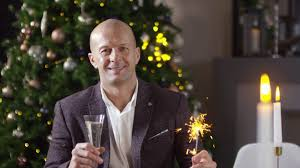white_male: (95, 27, 138, 79)
